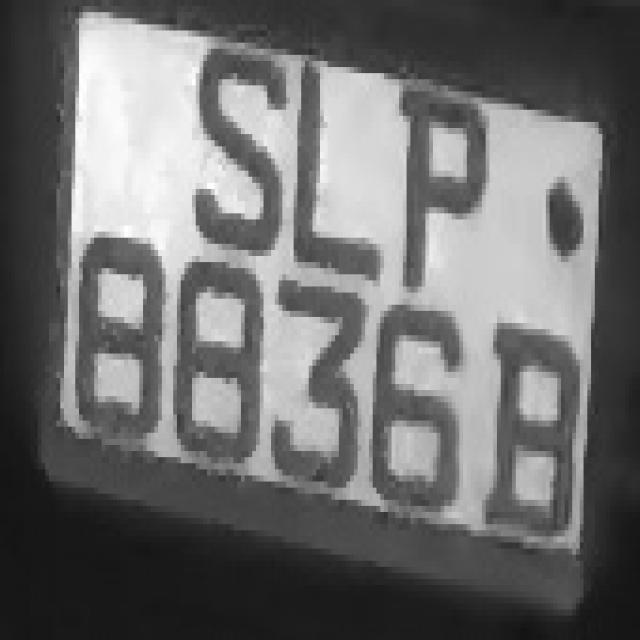3: (275, 238, 361, 512)
6: (362, 274, 459, 536)
8: (60, 213, 162, 470), (177, 237, 267, 493)
B: (478, 323, 587, 555)
L: (286, 36, 384, 304)
P: (392, 85, 493, 305)
S: (196, 0, 286, 262)
